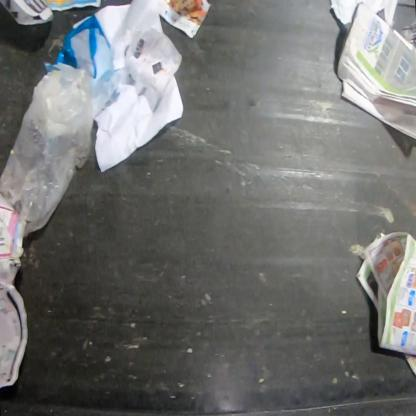soft_plastic: (0, 64, 94, 238), (54, 15, 127, 121)
